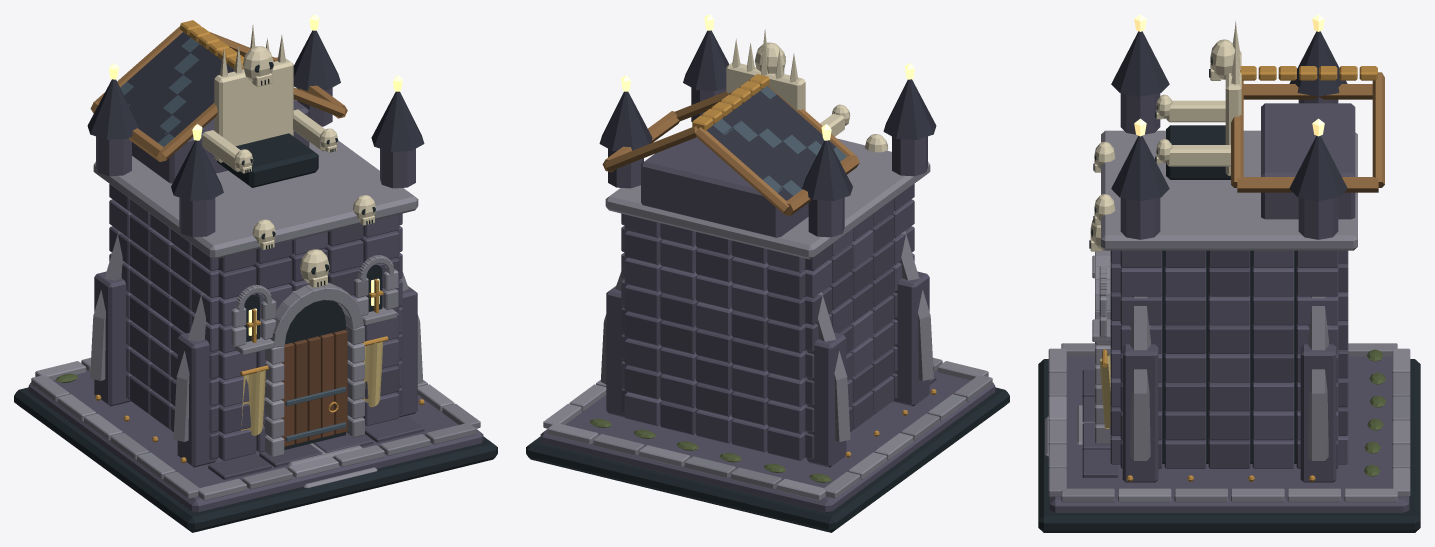
File: necro__senhor__L10.glb
3 views of the same model, side by side, from view 1: azimuth 30°, elevation 25°; view 2: azimuth 150°, elevation 25°; view 3: azimuth 270°, elevation 25° (orthographic). The views are drawn at different scales.
Parts seen in each view (by area): view 1: structure, weapon, banners; view 2: structure, weapon; view 3: structure, weapon, banners.
Part boxes in pixels (left/top/right/bottom): structure: left=14, top=14, right=497, bottom=532; weapon: left=202, top=24, right=338, bottom=187; banners: left=240, top=336, right=388, bottom=435; structure: left=526, top=14, right=1009, bottom=532; weapon: left=726, top=29, right=850, bottom=136; structure: left=1038, top=14, right=1420, bottom=532; weapon: left=1155, top=20, right=1241, bottom=179; banners: left=1099, top=349, right=1110, bottom=428.
Size of the model in its own units: 0.803 by 1.01 by 0.803.
